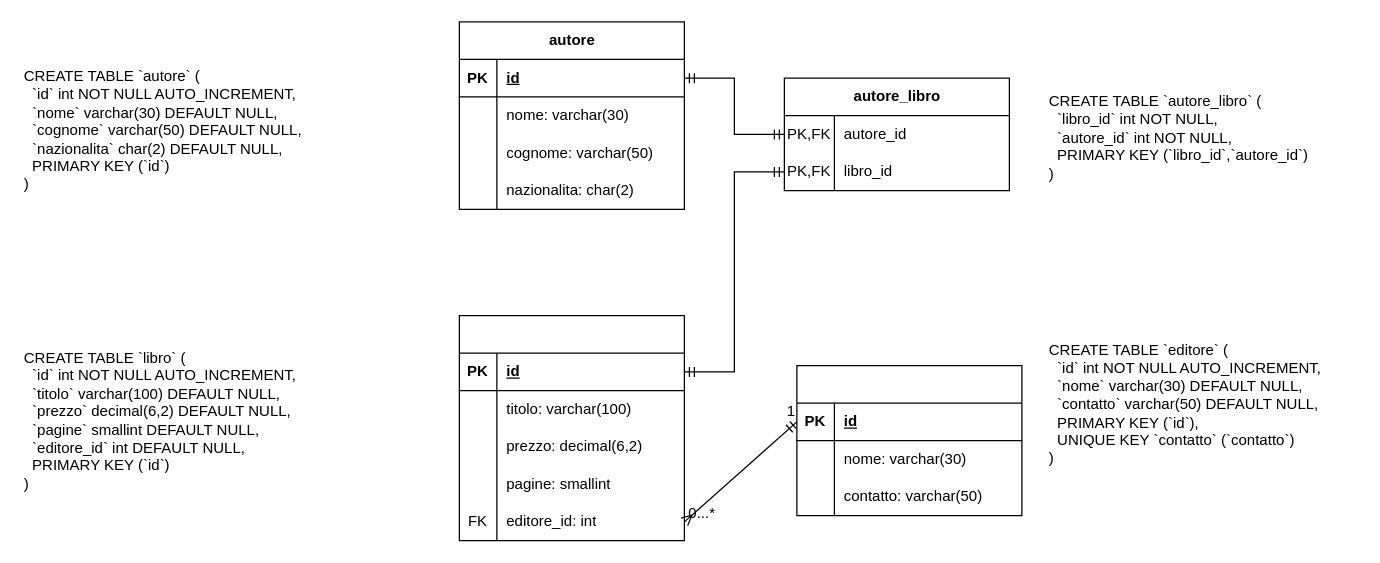
The diagram is 1380 pixels wide and 563 high, and some of its shapes have lost their labels. Here are the shapes that lost their labels. From the top down, the box of each, then its label:
(458, 314, 684, 541): libro
(796, 364, 1022, 516): editore
